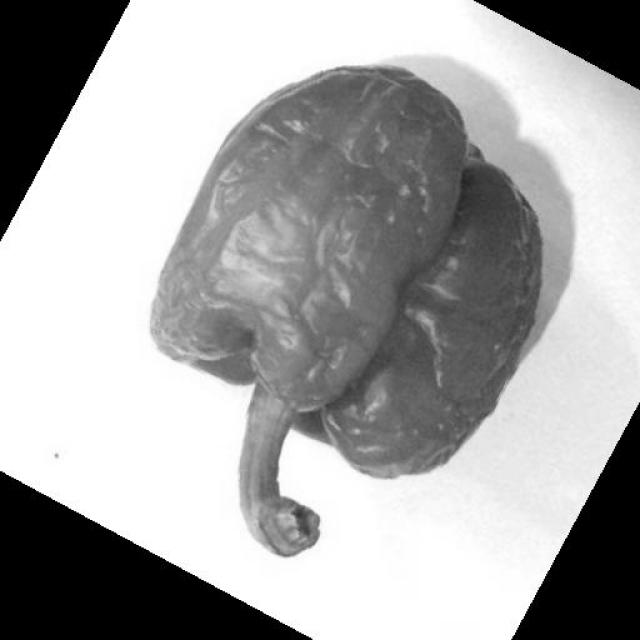Stale_Capsicum: (164, 55, 546, 535)
